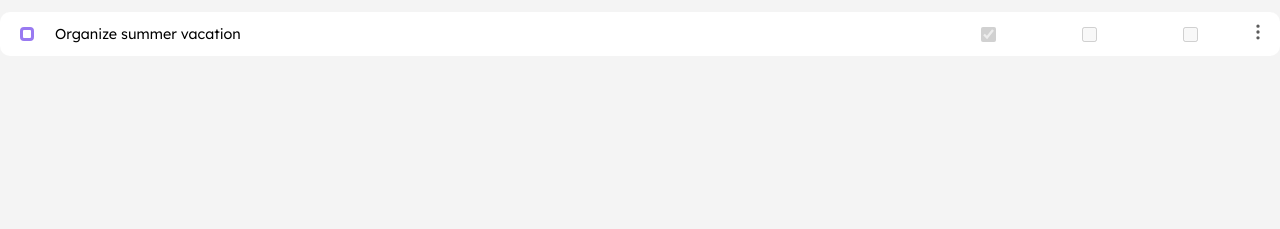
GoalCard › should open dropdown-menu when clicking on menu-vertical icon
The image size is (1280, 229).
Click the picture named "menu_vertical" at (1258, 32), box x1=1246 y1=12 x2=1270 y2=52
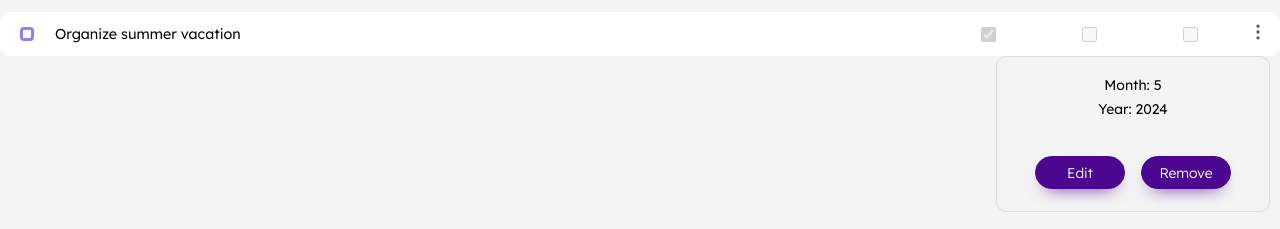
Result: the element with test id "dropdown-content" is shown at x1=996 y1=56 x2=1270 y2=212
